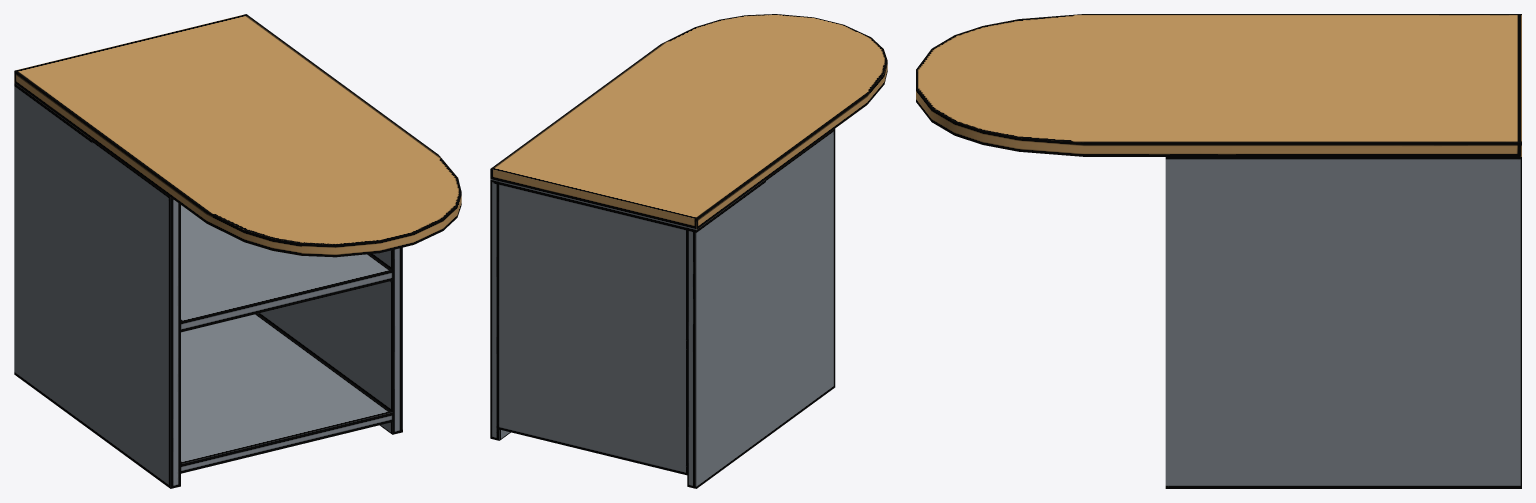
File: longdesk01.FBX
3 renders of one model, left to right at view 1: azimuth 30°, elevation 25°; view 2: azimuth 150°, elevation 25°; view 3: azimuth 270°, elevation 25°, orthographic. The views are drawn at different scales.
Visible parts, largest first — view 1: Box002; view 2: Box002; view 3: Box002.
Part boxes in pixels (x1,y1,x2,y2): Box002: (14, 14, 461, 488); Box002: (490, 14, 887, 488); Box002: (916, 14, 1521, 488).
Bounding box in the file's own units: 23.62 × 29.53 × 46.86.
